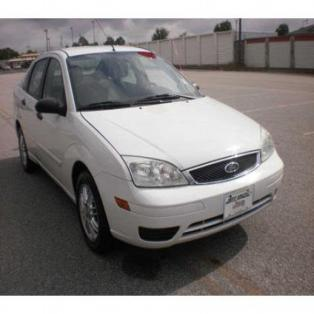Auto: (10, 43, 284, 256)
